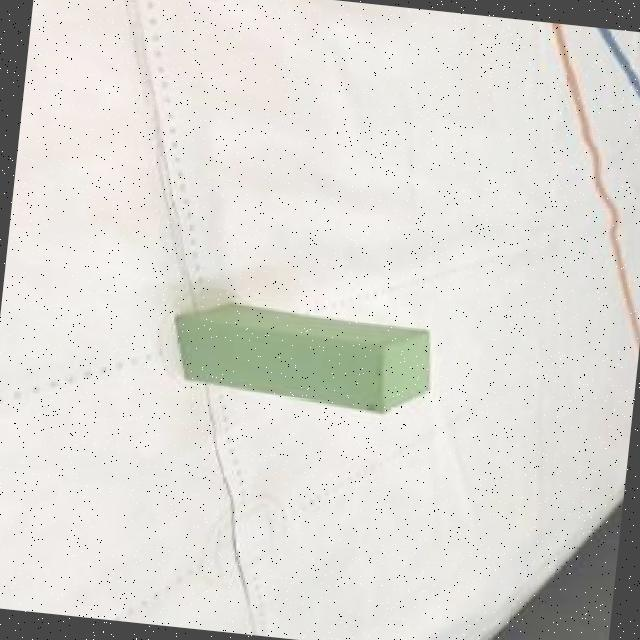greenbox: (166, 295, 437, 418)
